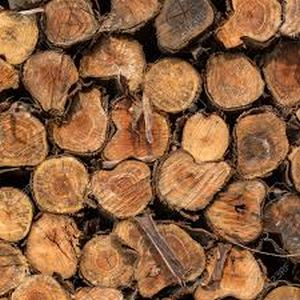log: (112, 222, 204, 293), (154, 152, 231, 215), (105, 94, 171, 164), (207, 177, 266, 246), (203, 49, 265, 114), (28, 155, 91, 218), (80, 38, 145, 99), (50, 88, 110, 154), (233, 108, 287, 177), (87, 161, 156, 215), (27, 212, 81, 281), (197, 244, 263, 300), (22, 51, 74, 118), (77, 231, 134, 290), (146, 59, 202, 116), (216, 1, 283, 48), (40, 1, 102, 48), (1, 104, 47, 166), (159, 1, 214, 49), (183, 115, 231, 166), (1, 9, 39, 63), (103, 1, 159, 33), (1, 187, 31, 243)
